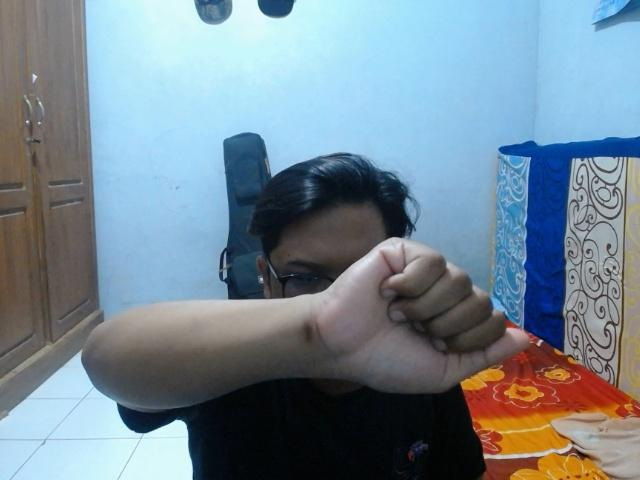Grab: (309, 229, 532, 399)
